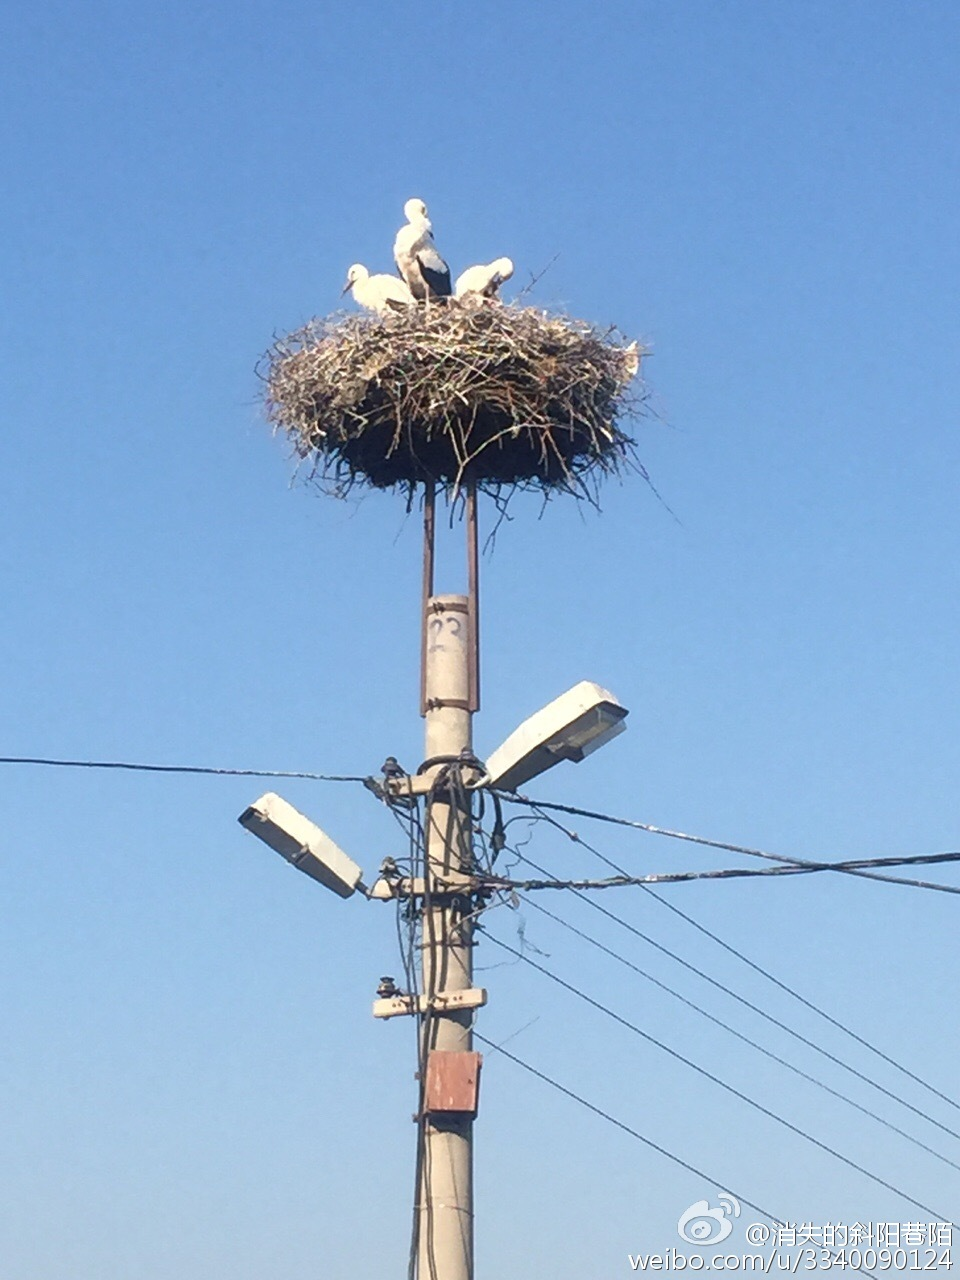bird-nest: (261, 308, 631, 486)
